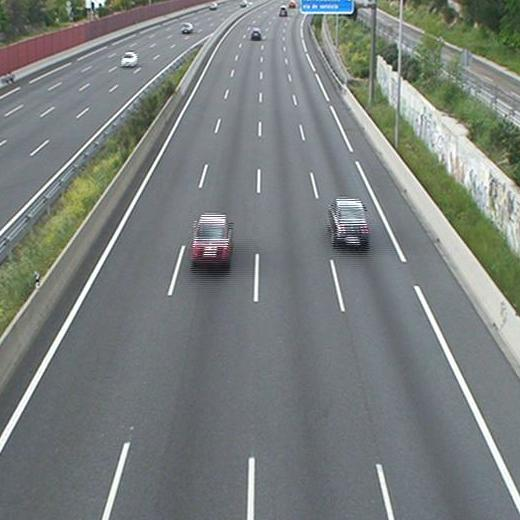car: (328, 197, 371, 253), (189, 214, 232, 269), (250, 28, 261, 41)
